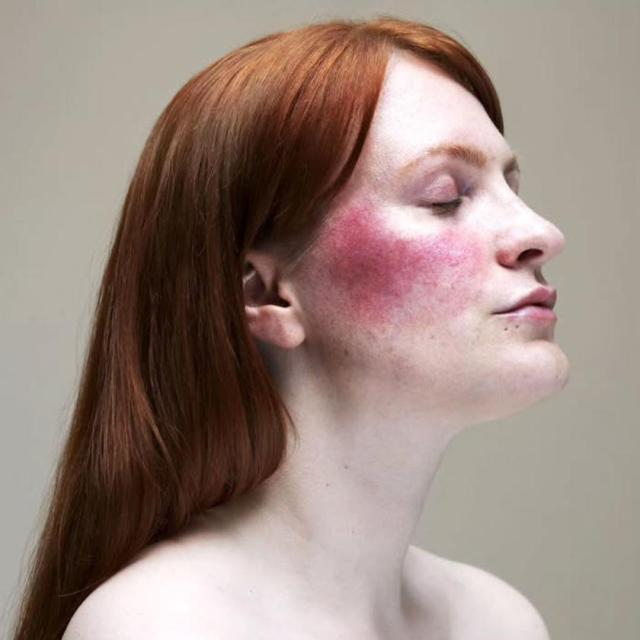Rosacea: (322, 216, 461, 308)
